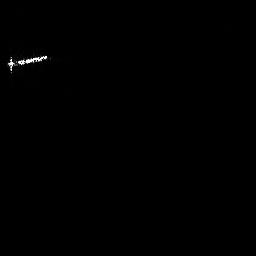ship: (6, 53, 52, 76)
